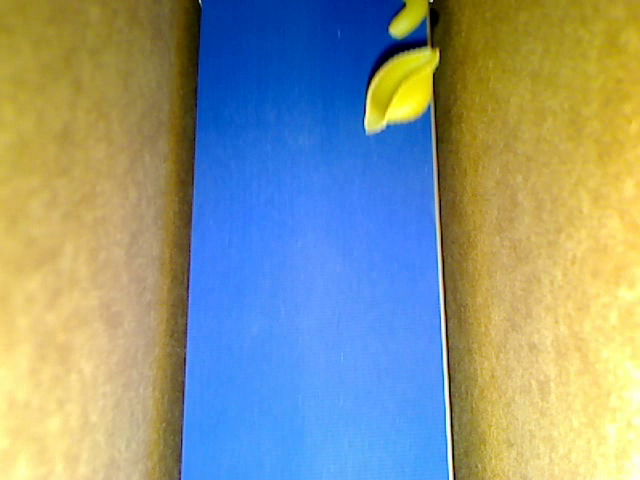elbow: (388, 1, 429, 40)
shell: (363, 46, 439, 134)
